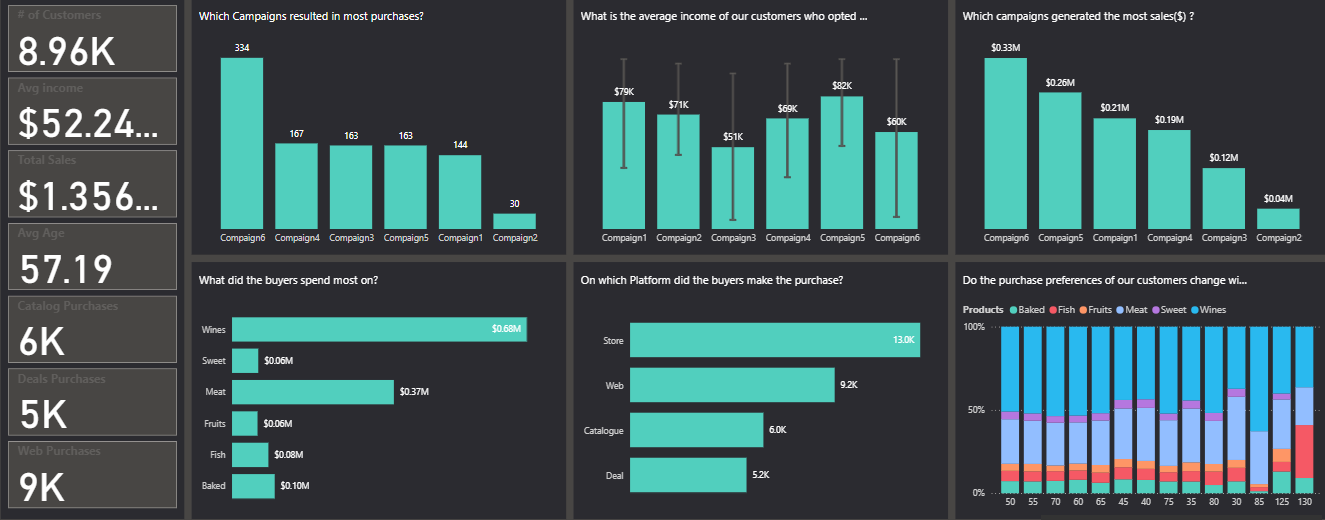

This screenshot's page, from the dashboard's own definition file:
{"tool":"powerbi","page":{"name":"Campaign Performance","canvas":[1280,720],"ordinal":0},"visuals":[{"type":"clusteredColumnChart","title":"Which Campaigns resulted in most purchases?","fields":{"Category":["Compaign.Compaign"],"Y":["Sum(Compaign.Accepepted_Ind)"]},"box":[12.9,95.7,352.9,274.3],"z":0},{"type":"clusteredColumnChart","title":"Which campaigns generated the most sales($) ?","fields":{"Category":["Compaign.Compaign"],"Y":["Sum(Products.Sales)"]},"box":[12.9,388.6,352.9,287.1],"z":1000},{"type":"hundredPercentStackedBarChart","title":"Which Products did the buyers purchase in each campaign?","fields":{"Category":["Compaign.Compaign"],"Y":["Sum(Products.Sales)"],"Series":["Products.Products"]},"box":[797.1,95.7,460,274.3],"z":2000},{"type":"barChart","title":"What did the buyers spend most on?","fields":{"Category":["Products.Products"],"Y":["Sum(Products.Sales)"]},"box":[394.3,95.7,384.3,274.3],"z":3000},{"type":"hundredPercentStackedBarChart","title":"Through which platforms did buyers purchased in each campaign?","fields":{"Category":["Compaign.Compaign"],"Y":["Sum(Platform.Qty)"],"Series":["Platform.Platform"]},"box":[797.1,388.6,460,287.1],"z":4000},{"type":"barChart","title":"On which Platform did the buyers make the purchase?","fields":{"Category":["Platform.Platform"],"Y":["Sum(Platform.Qty)"]},"box":[394.3,388.6,384.3,287.1],"z":5000},{"type":"image","box":[1151.4,0,128.6,128.6],"z":5001},{"type":"textbox","title":"Campaign Performance","box":[12.9,14.3,1138.6,70],"z":5002}]}

Visuals, with their boxes on the page's 1280x720 design canvas (x1, y1, x2, y2). These are canvas units, not pixel positions in the 1325x520 screenshot, which may show the page scaled, cropped or inside an application window:
"Which Campaigns resulted in most purchases?" clusteredColumnChart: 13 96 366 370
"Which campaigns generated the most sales($) ?" clusteredColumnChart: 13 389 366 676
"Which Products did the buyers purchase in each campaign?" hundredPercentStackedBarChart: 797 96 1257 370
"What did the buyers spend most on?" barChart: 394 96 779 370
"Through which platforms did buyers purchased in each campaign?" hundredPercentStackedBarChart: 797 389 1257 676
"On which Platform did the buyers make the purchase?" barChart: 394 389 779 676
image: 1151 0 1280 129
"Campaign Performance" textbox: 13 14 1152 84
